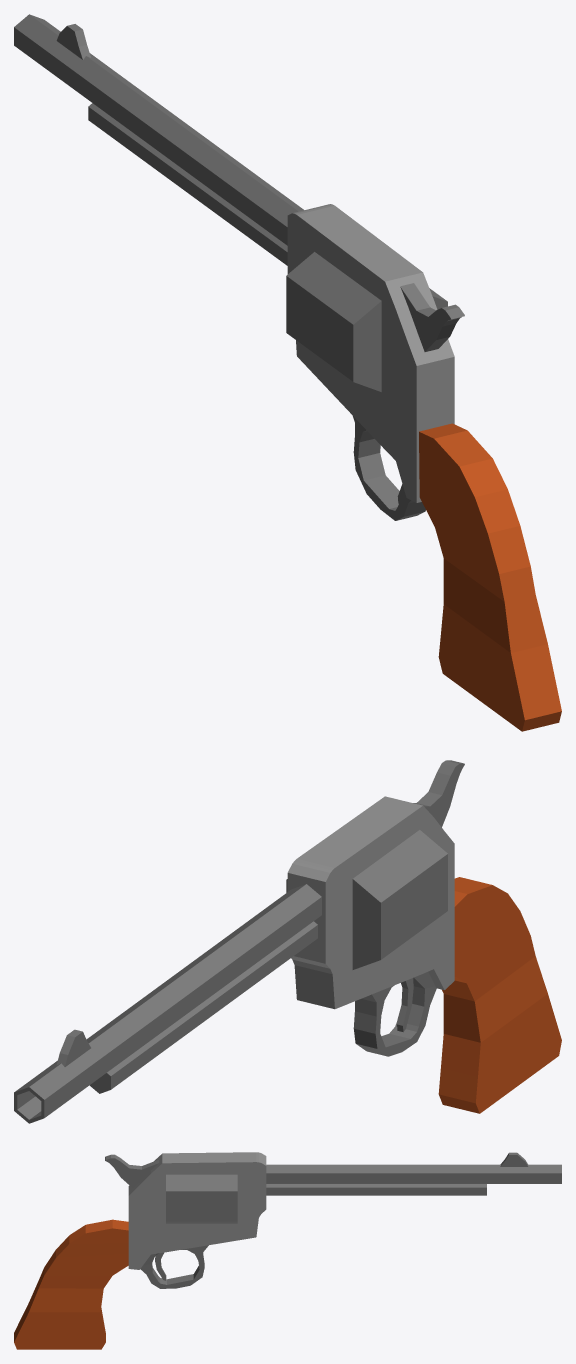
File: GunModel.fbx
3 views of the same model, one above another, from view 1: azimuth 30°, elevation 25°; view 2: azimuth 150°, elevation 25°; view 3: azimuth 270°, elevation 25° (orthographic). The views are drawn at different scales.
Visible parts, largest first — view 1: Gun; view 2: Gun; view 3: Gun.
Part boxes in pixels (box(x1,y1,x2,y2)): Gun: box(14, 14, 561, 731); Gun: box(14, 760, 561, 1123); Gun: box(14, 1152, 561, 1349).
Size of the model in its own units: 10.65 by 38.57 by 100.
